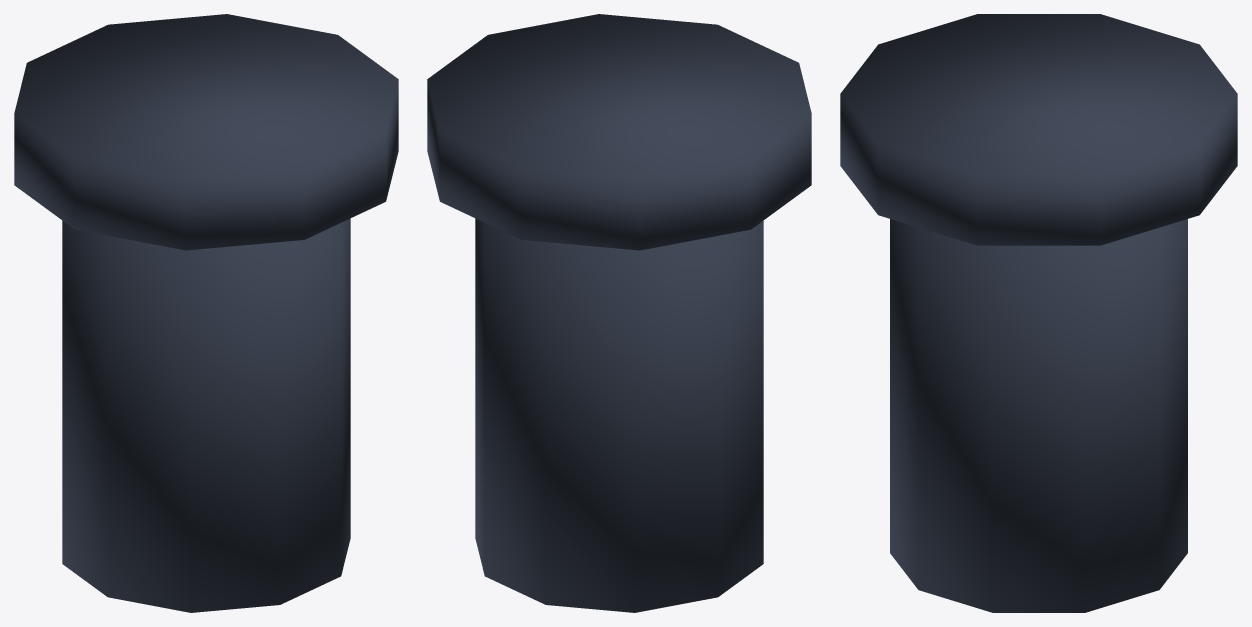
Rendered from bollard.glb.
The picture shows the model from 3 angles, left to right: view 1: azimuth 30°, elevation 25°; view 2: azimuth 150°, elevation 25°; view 3: azimuth 270°, elevation 25°; orthographic projection.
Parts seen in each view (by area): view 1: bollard, bollard_cap; view 2: bollard, bollard_cap; view 3: bollard, bollard_cap.
Part boxes in pixels (left/top/right/bottom): bollard: left=62, top=218, right=350, bottom=612; bollard_cap: left=14, top=14, right=398, bottom=250; bollard: left=475, top=218, right=763, bottom=612; bollard_cap: left=427, top=14, right=811, bottom=250; bollard: left=890, top=219, right=1187, bottom=612; bollard_cap: left=840, top=14, right=1237, bottom=245.
Bounding box in the file's own units: 0.3804 × 0.51 × 0.4.
